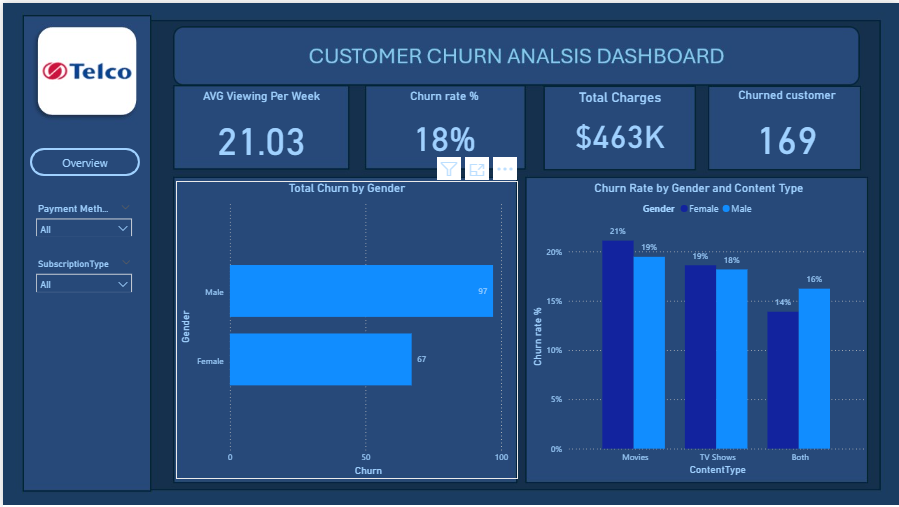

What the dashboard file says about the page in this screenshot:
{"tool":"powerbi","page":{"name":"Customer Analysis","canvas":[1280,720],"ordinal":1},"visuals":[{"type":"cardVisual","title":"Churn rate %","fields":{"Data":["Subscription_Service_Churn_Data.Churn rate %"]},"box":[525.7,122.9,210,105.7],"z":0},{"type":"cardVisual","title":"AVG Viewing Per Week","fields":{"Data":["Avg(Subscription_Service_Churn_Data.ViewingHoursPerWeek)"]},"box":[258.6,122.9,221.4,104.3],"z":1000},{"type":"cardVisual","title":"Total Charges","fields":{"Data":["Sum(Subscription_Service_Churn_Data.TotalCharges)"]},"box":[781.2,123.2,200,105.8],"z":2000},{"type":"cardVisual","title":"Churned customer","fields":{"Data":["Sum(Subscription_Service_Churn_Data.Churn)"]},"box":[1015.9,121.7,208.7,105.8],"z":3000},{"type":"slicer","fields":{"Values":["Subscription_Service_Churn_Data.PaymentMethod"]},"box":[37.1,280,157.1,52.9],"z":4000},{"type":"slicer","fields":{"Values":["Subscription_Service_Churn_Data.SubscriptionType"]},"box":[37.1,360,157.1,52.9],"z":5000},{"type":"barChart","title":"Total Churn by  Gender","fields":{"Y":["Sum(Subscription_Service_Churn_Data.Churn)"],"Category":["Subscription_Service_Churn_Data.Gender"]},"box":[247.8,253.6,488.4,426.1],"z":6000},{"type":"clusteredColumnChart","title":"Churn Rate by  Gender and Content Type","fields":{"Category":["Subscription_Service_Churn_Data.ContentType"],"Series":["Subscription_Service_Churn_Data.Gender"],"Y":["Subscription_Service_Churn_Data.Churn rate %"]},"box":[750,254.3,488.6,425.7],"z":7000},{"type":"actionButton","box":[38.6,207.1,157.1,40],"z":7001}]}

Visuals, with their boxes in screenshot pixels (x1, y1, x2, y2), scaled from the page's 1280x720 canvas onto the 899x507 screenshot:
"Churn rate %" cardVisual: (369,87,517,161)
"AVG Viewing Per Week" cardVisual: (182,87,337,160)
"Total Charges" cardVisual: (549,87,689,161)
"Churned customer" cardVisual: (714,86,860,160)
slicer - Subscription_Service_Churn_Data.PaymentMethod: (26,197,136,234)
slicer - Subscription_Service_Churn_Data.SubscriptionType: (26,254,136,291)
"Total Churn by  Gender" barChart: (174,179,517,479)
"Churn Rate by  Gender and Content Type" clusteredColumnChart: (527,179,870,479)
actionButton: (27,146,137,174)
